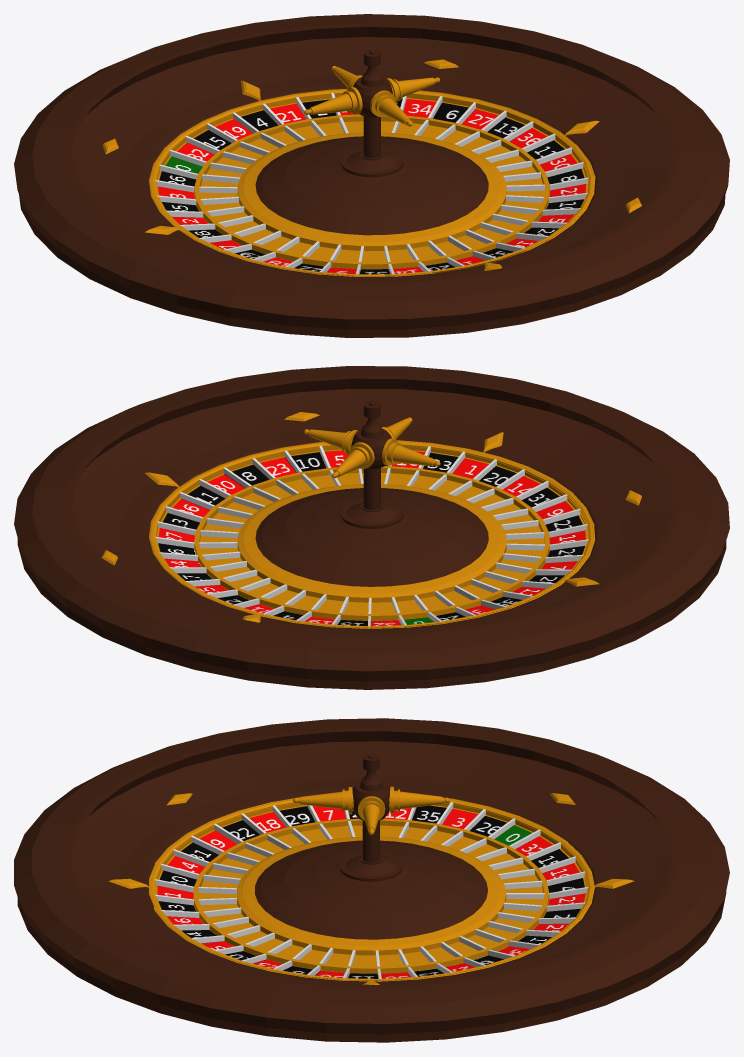
Rendered from Roulette_Table_V5.glb.
The picture shows the model from 3 angles, top to bottom: view 1: azimuth 30°, elevation 25°; view 2: azimuth 150°, elevation 25°; view 3: azimuth 270°, elevation 25°; orthographic projection.
Parts seen in each view (by area): view 1: OuterCircle, InnerCircle, InnerPillar, Seperator, numbers, Circle.004, Circle.001, Circle.003; view 2: OuterCircle, InnerCircle, InnerPillar, Seperator, numbers, Circle.004, Circle.002, Circle.003; view 3: OuterCircle, InnerCircle, InnerPillar, Seperator, numbers, Circle.001, Circle.002, Circle.003.
Boxes of the visible parts, <box> form: OuterCircle: <box>14,14,729,337</box>; InnerCircle: <box>149,88,595,276</box>; InnerPillar: <box>255,49,488,235</box>; Seperator: <box>155,93,588,274</box>; numbers: <box>158,98,586,274</box>; Circle.004: <box>304,87,362,114</box>; Circle.001: <box>370,90,412,126</box>; Circle.003: <box>386,77,440,103</box>; OuterCircle: <box>14,366,729,689</box>; InnerCircle: <box>149,440,595,628</box>; InnerPillar: <box>255,401,488,586</box>; Seperator: <box>155,445,588,626</box>; numbers: <box>158,450,585,626</box>; Circle.004: <box>382,438,440,466</box>; Circle.002: <box>332,442,374,478</box>; Circle.003: <box>304,429,357,455</box>; OuterCircle: <box>14,718,729,1042</box>; InnerCircle: <box>149,797,594,981</box>; InnerPillar: <box>255,754,487,939</box>; Seperator: <box>155,802,588,978</box>; numbers: <box>157,805,585,978</box>; Circle.001: <box>293,787,353,814</box>; Circle.002: <box>389,786,449,813</box>; Circle.003: <box>358,796,385,835</box>.
Bounding box in the file's own units: 5.55 × 1.23 × 5.54.
3 materials, 1 textured.
